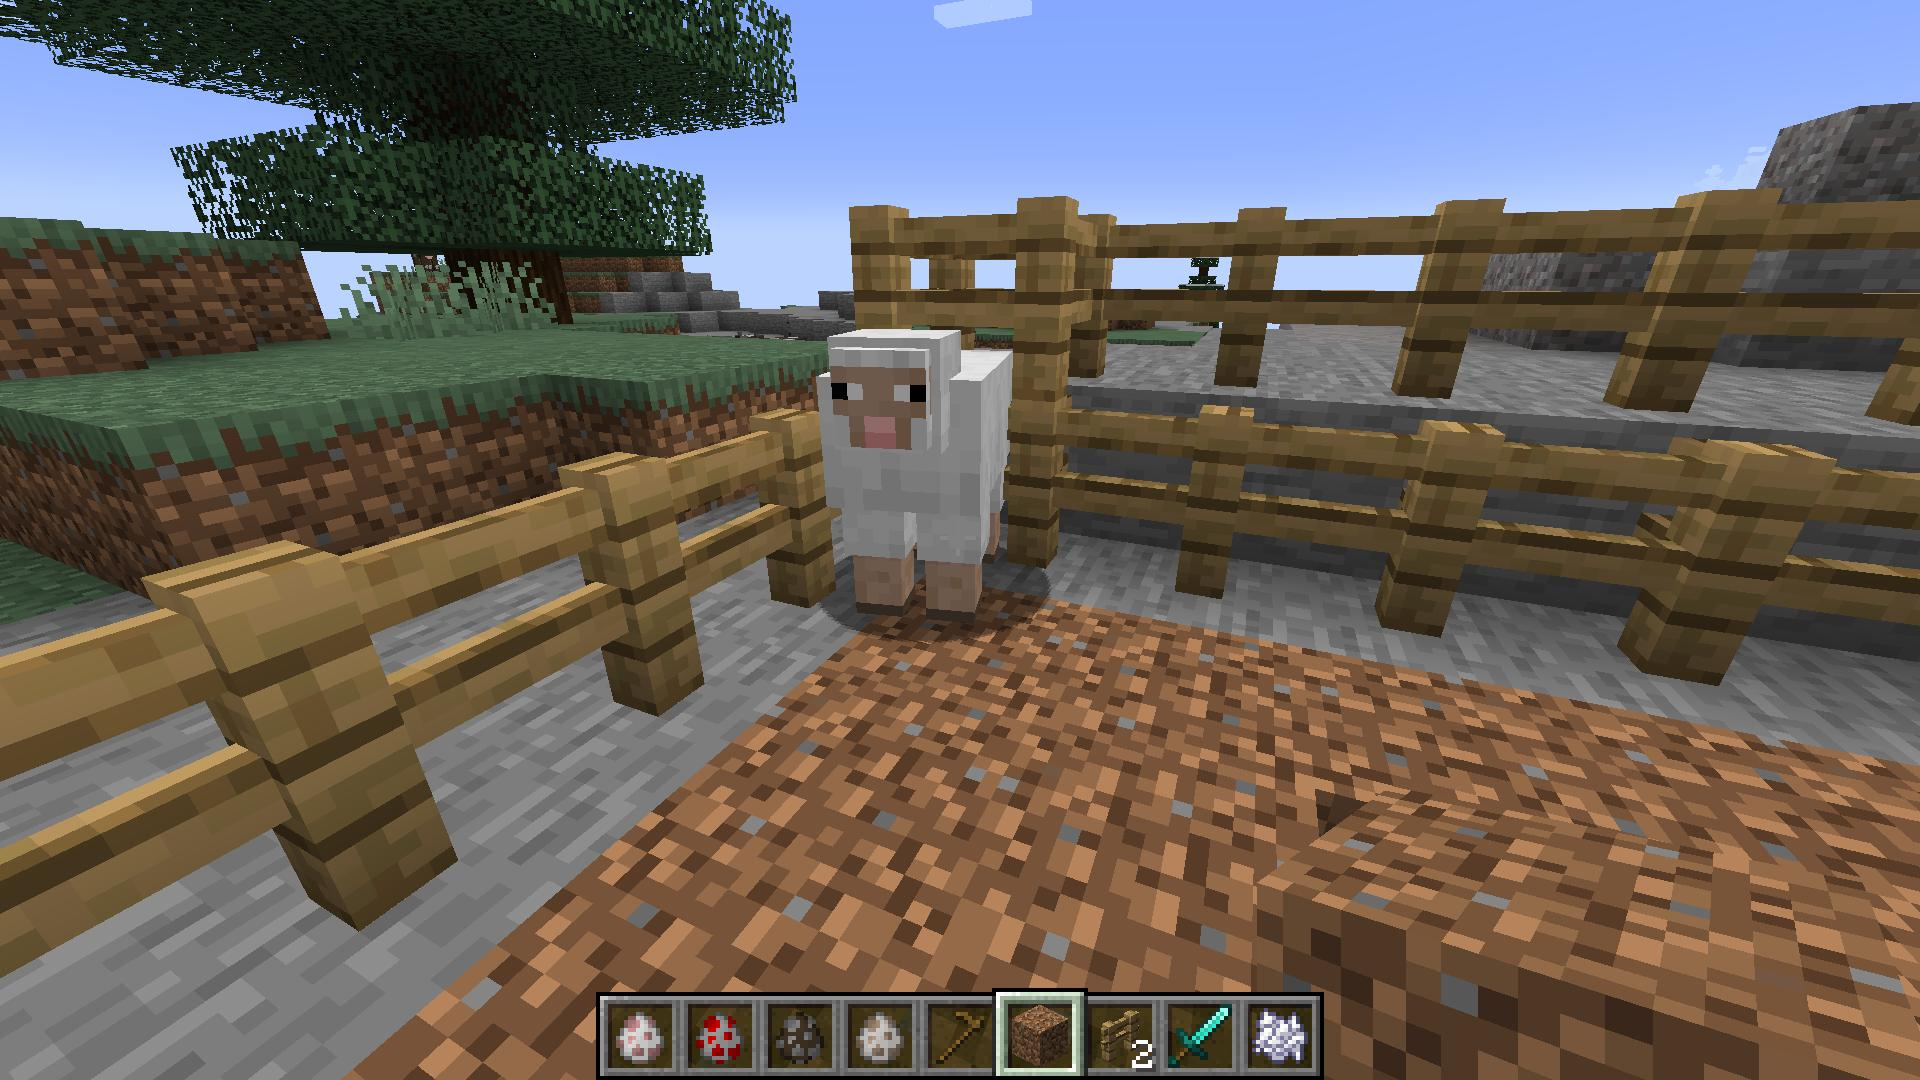sheep: (815, 316, 1018, 615)
